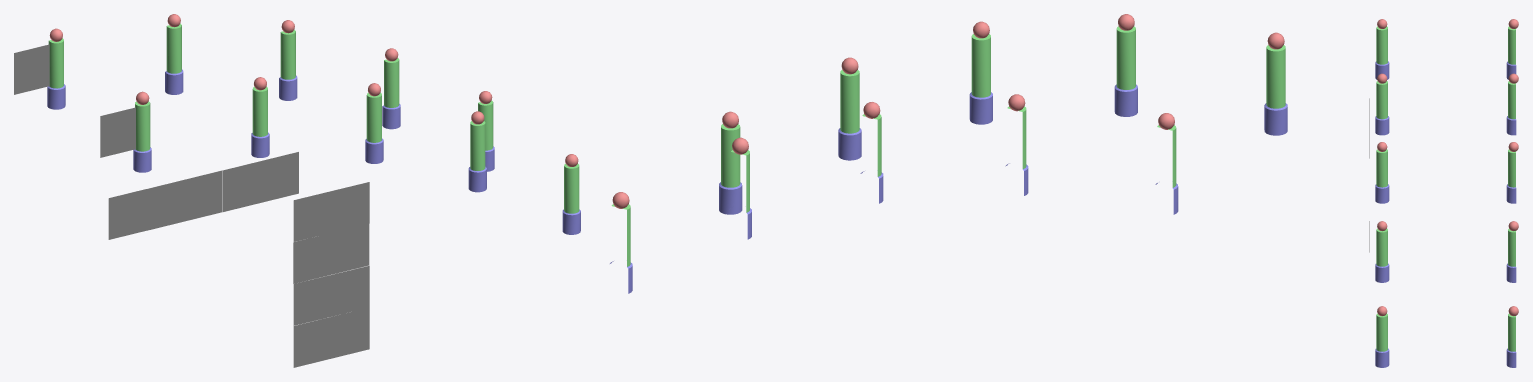
The model's file is CHN_GoalBridgePosts01.gltf.
3 renders of one model, left to right at view 1: azimuth 30°, elevation 25°; view 2: azimuth 150°, elevation 25°; view 3: azimuth 270°, elevation 25°, orthographic. The views are drawn at different scales.
Parts seen in each view (by area): view 1: CHN_GoalBridgePosts01; view 2: CHN_GoalBridgePosts01; view 3: CHN_GoalBridgePosts01.
Part boxes in pixels (bbox=[...]): CHN_GoalBridgePosts01: bbox=[14, 14, 580, 367]; CHN_GoalBridgePosts01: bbox=[610, 14, 1287, 293]; CHN_GoalBridgePosts01: bbox=[1369, 19, 1518, 367].
Size of the model in its own units: 24.48 by 14.84 by 8.68.
